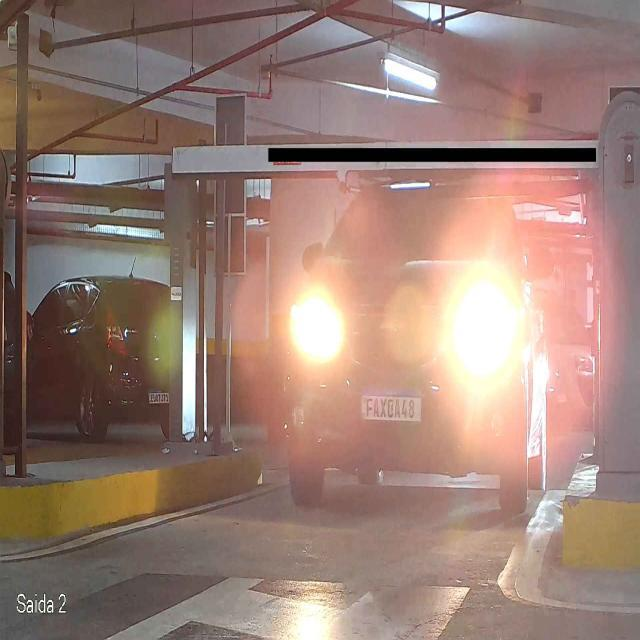mercosul_plate: (359, 388, 424, 423)
